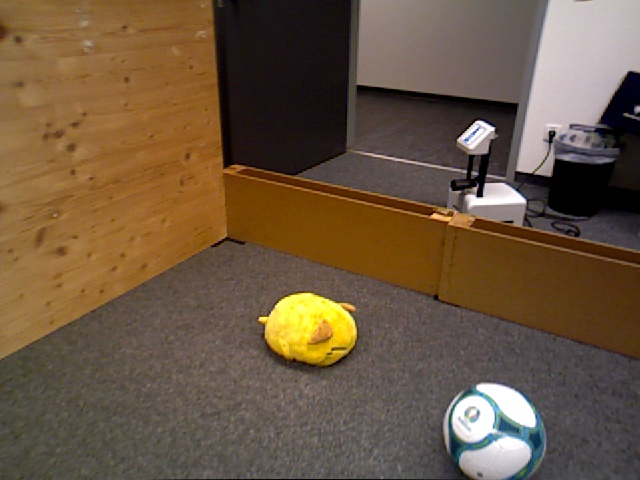grasp: (263, 292, 357, 370)
kick: (442, 382, 546, 480)
